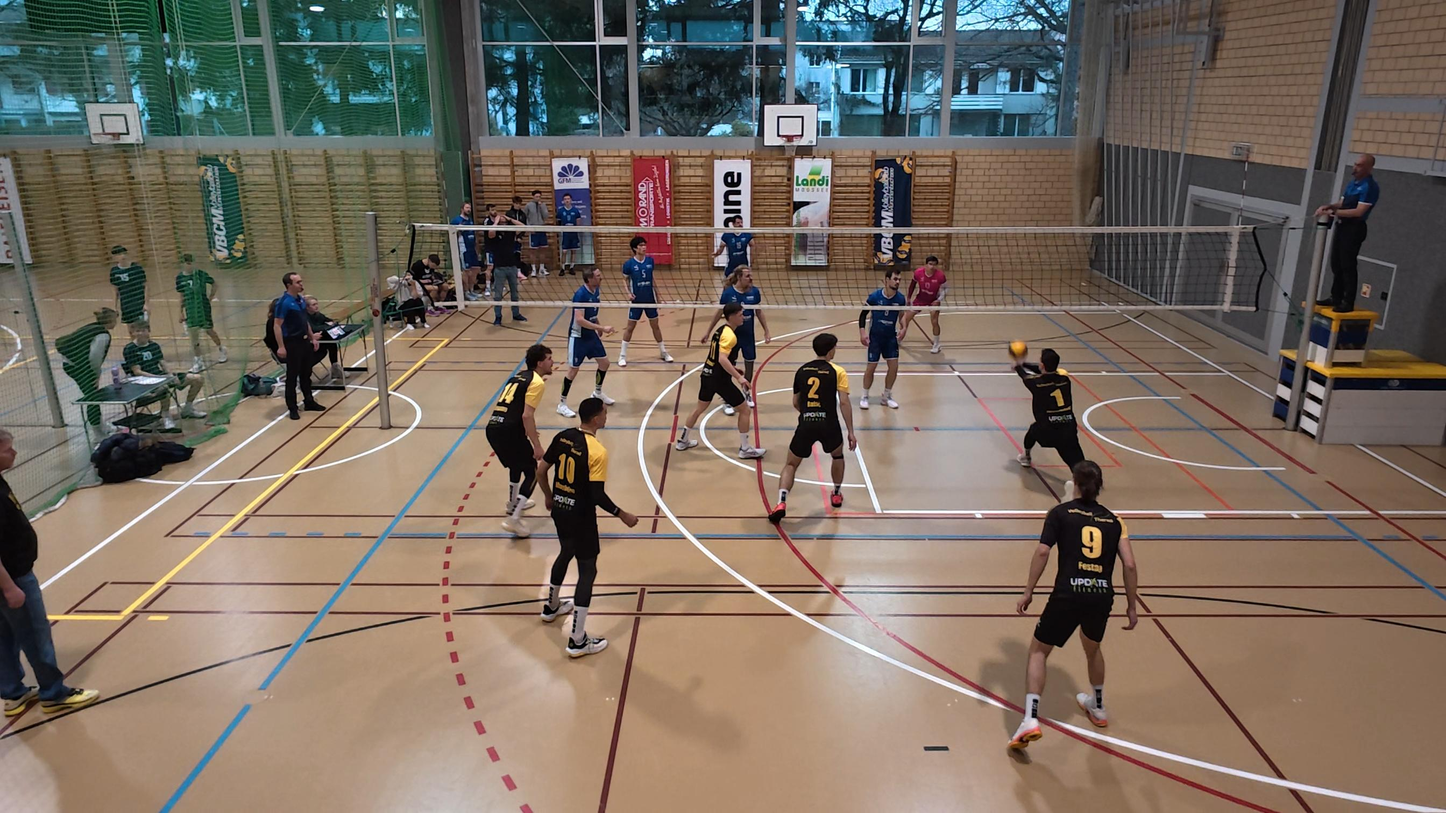difesa: (1005, 344, 1088, 503)
